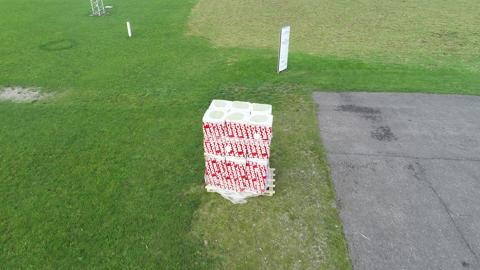RockwoolPallet: (202, 99, 274, 195)
